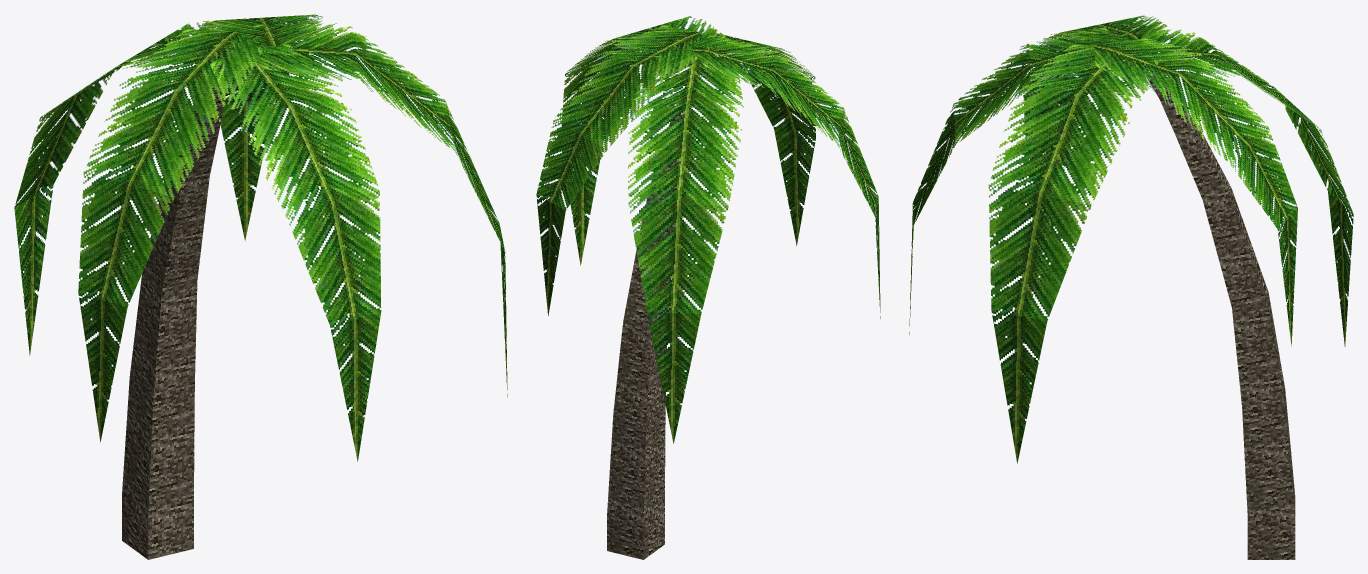
Rendered from tree_palm.glb.
The picture shows the model from 3 angles, left to right: view 1: azimuth 30°, elevation 25°; view 2: azimuth 150°, elevation 25°; view 3: azimuth 270°, elevation 25°; orthographic projection. The views are drawn at different scales.
Visible parts, largest first — view 1: Tree; view 2: Tree; view 3: Tree.
Part boxes in pixels (box(x1,y1,x2,y2)): Tree: box(14, 14, 507, 559); Tree: box(536, 16, 880, 559); Tree: box(909, 15, 1353, 559).
Bounding box in the file's own units: 11.2 × 14.89 × 11.72.
2 materials, 2 textured.
